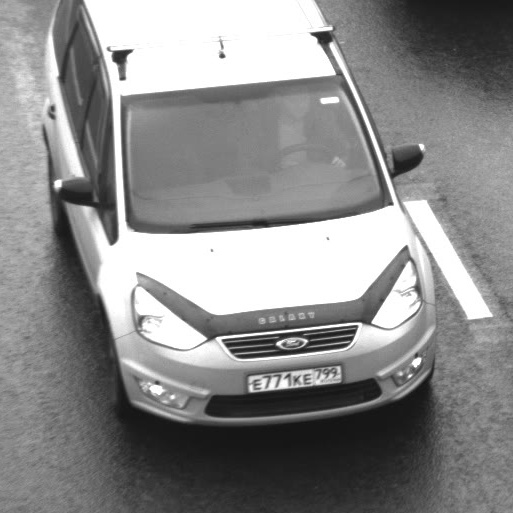plate: (236, 355, 353, 400)
